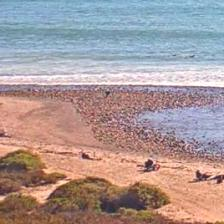surfer: (184, 54, 194, 58)
